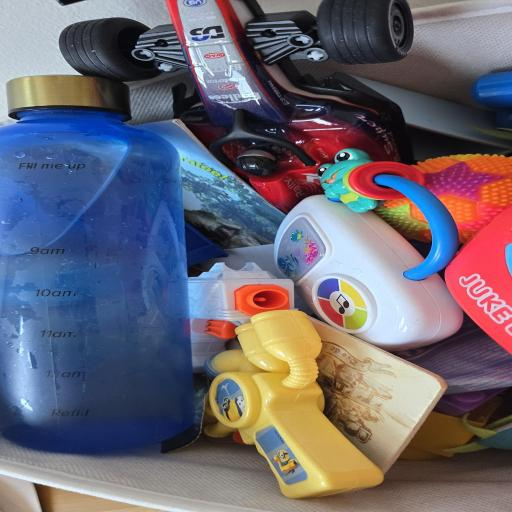bottle: (0, 66, 217, 460)
